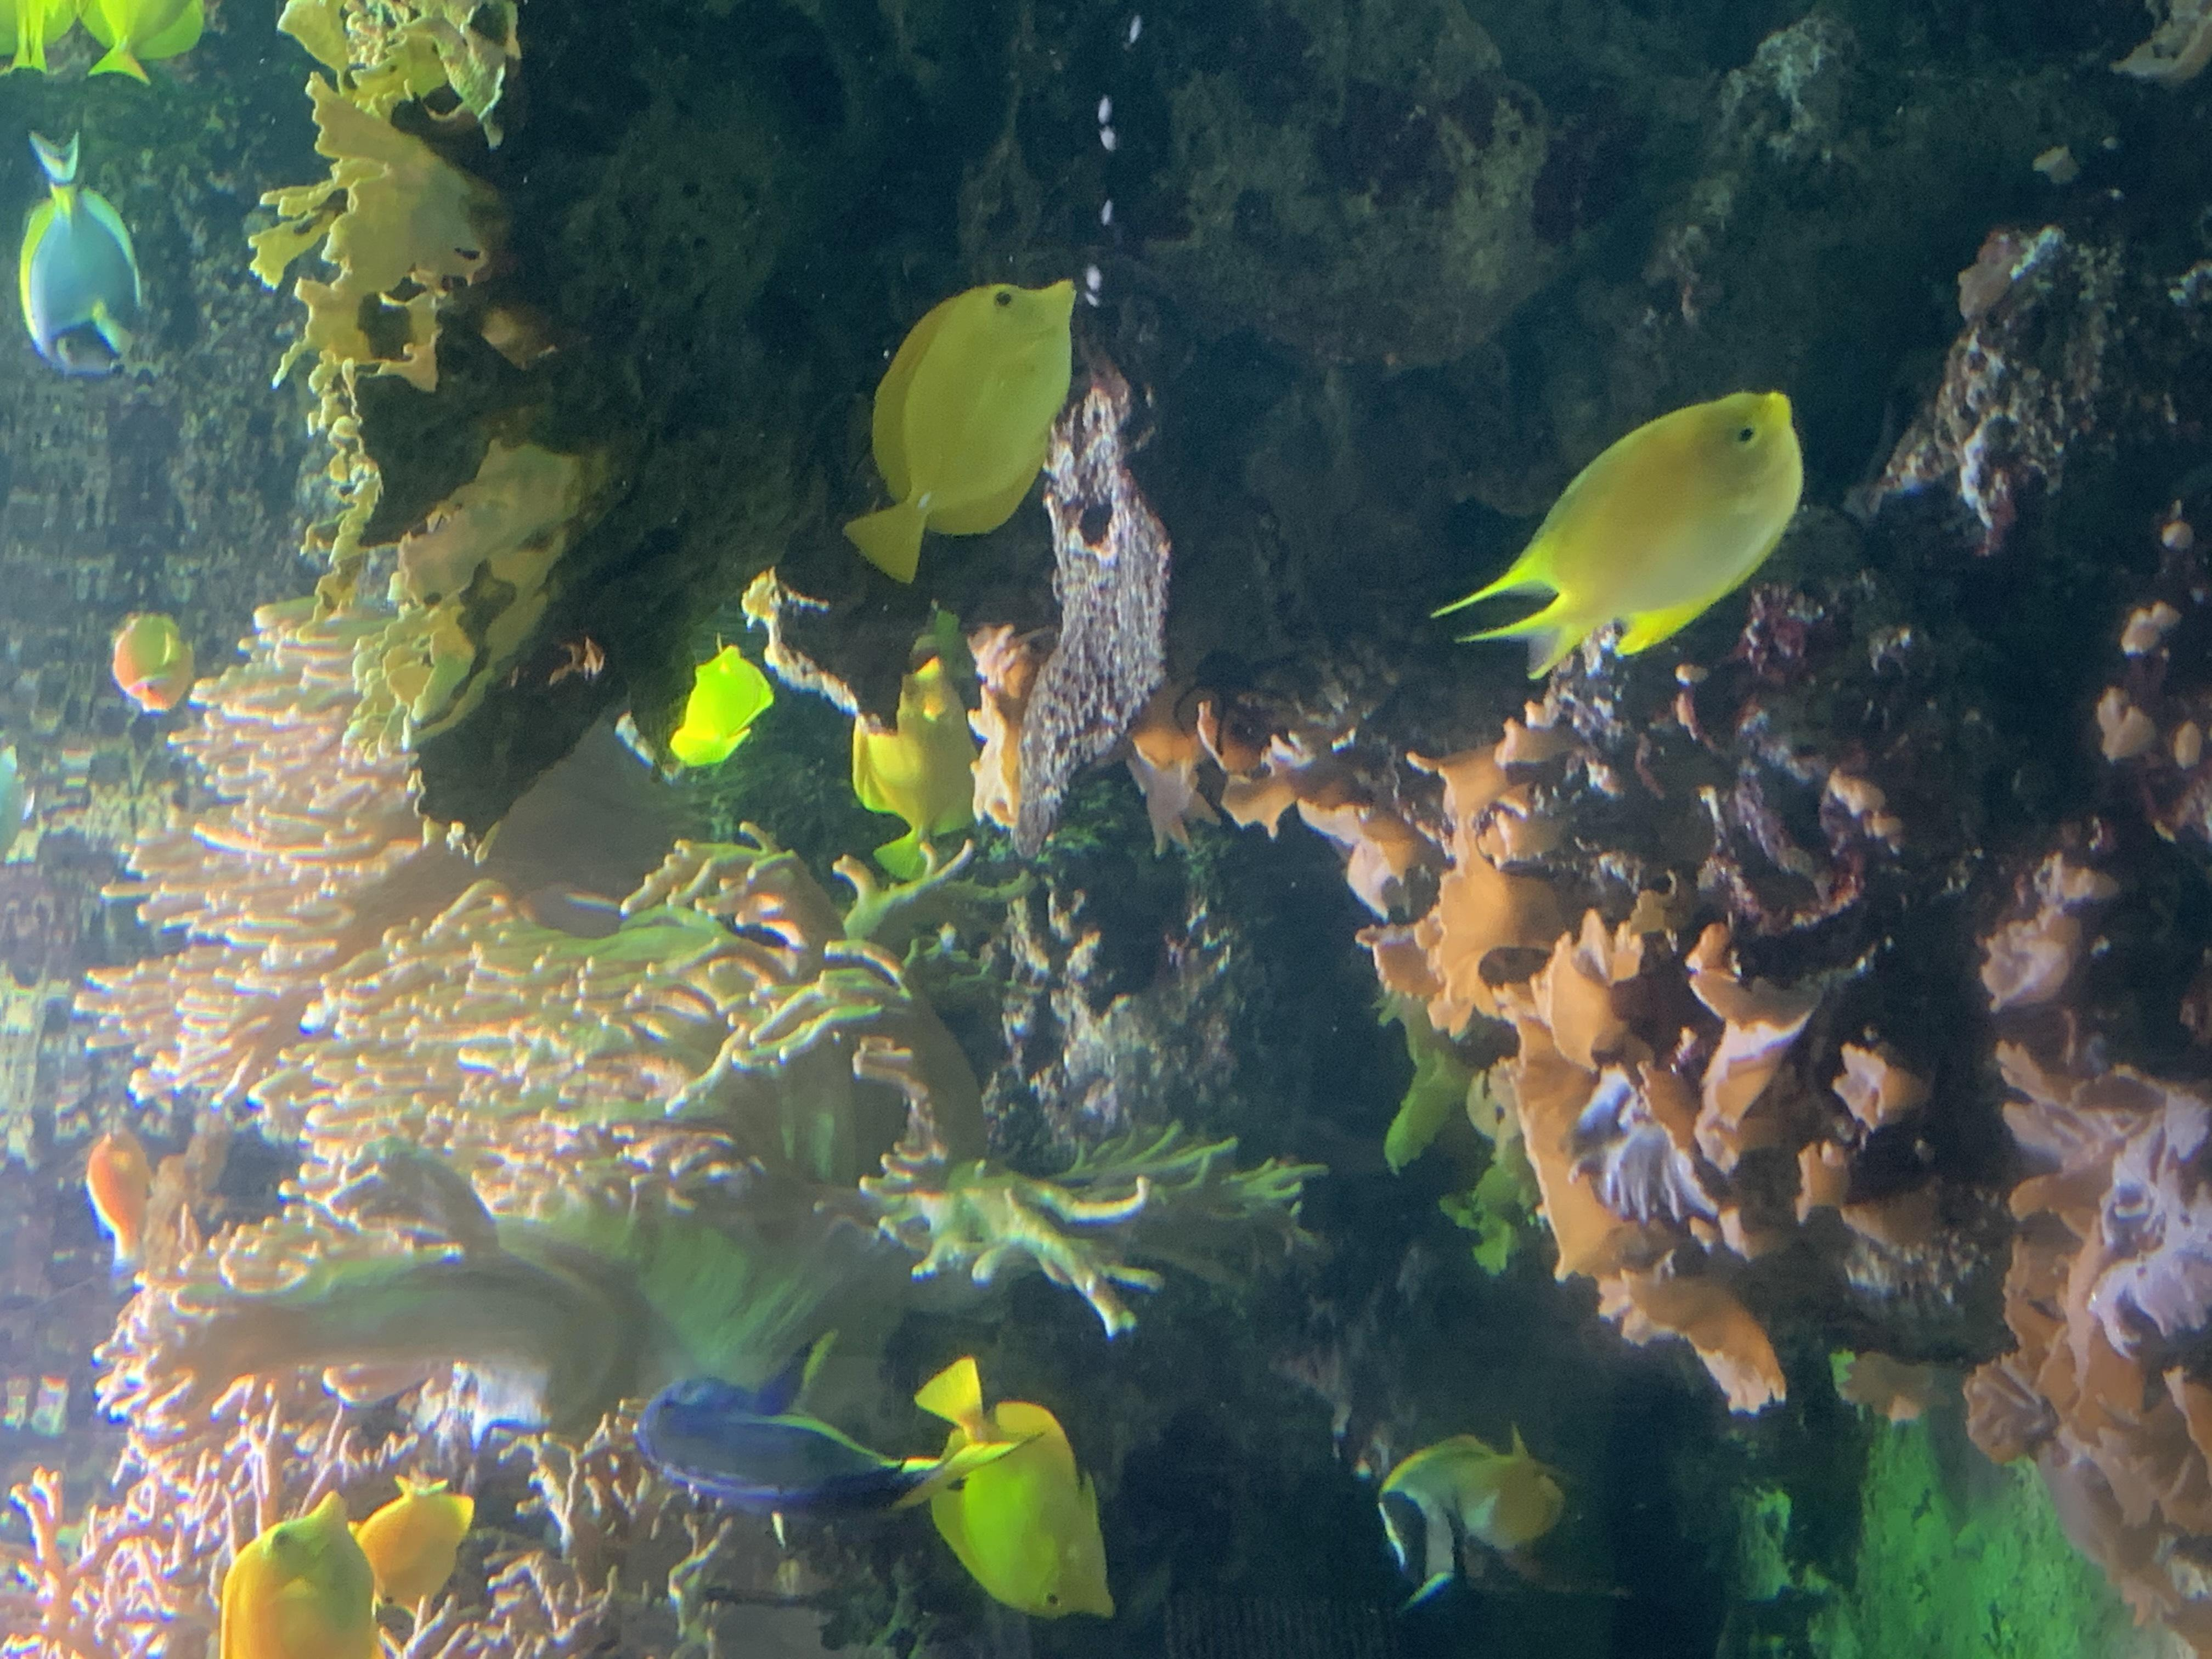fish: (1426, 390, 1806, 678), (840, 275, 1078, 587), (892, 1345, 1130, 1629), (611, 1363, 968, 1534), (12, 125, 169, 387), (1357, 1417, 1578, 1589), (827, 643, 986, 871), (209, 1488, 392, 1657), (348, 1459, 488, 1628), (75, 1112, 169, 1267), (671, 634, 773, 772), (98, 608, 202, 716), (94, 0, 204, 94)
